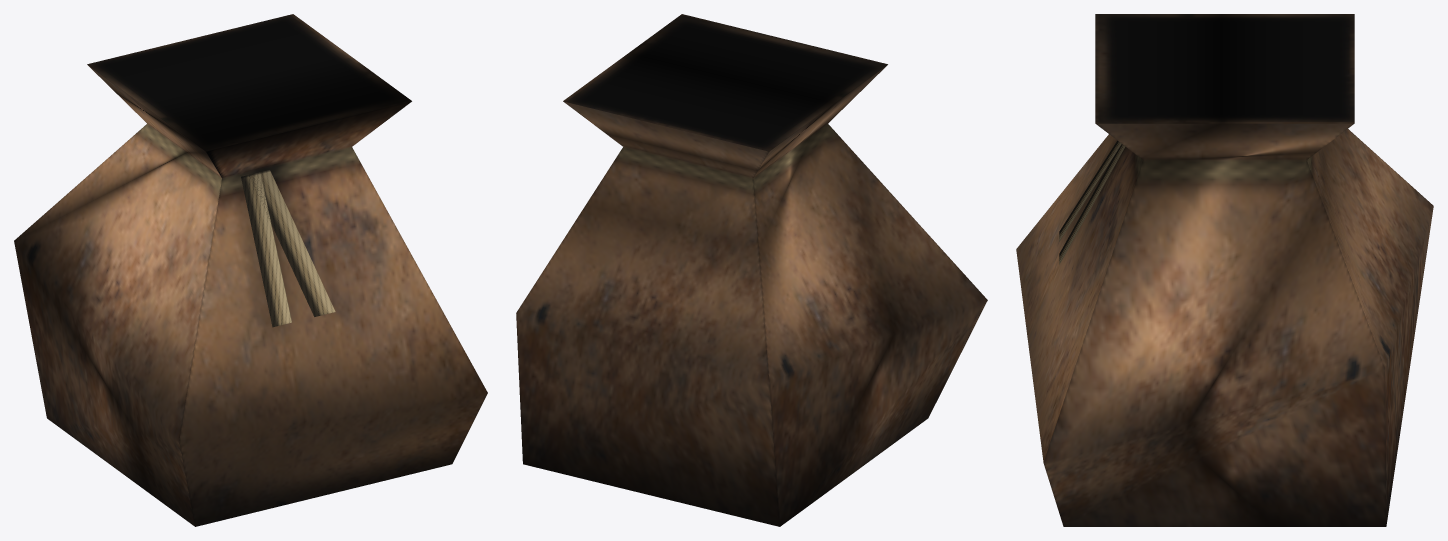
File: Bag_atlas.fbx
3 views of the same model, side by side, from view 1: azimuth 30°, elevation 25°; view 2: azimuth 150°, elevation 25°; view 3: azimuth 270°, elevation 25° (orthographic). The views are drawn at different scales.
Parts seen in each view (by area): view 1: polySurface1; view 2: polySurface1; view 3: polySurface1.
Boxes of the visible parts, bbox=[...] form: polySurface1: bbox=[14, 14, 487, 526]; polySurface1: bbox=[516, 14, 987, 526]; polySurface1: bbox=[1016, 14, 1433, 526].
Bounding box in the file's own units: 0.5325 × 0.568 × 0.5511.
